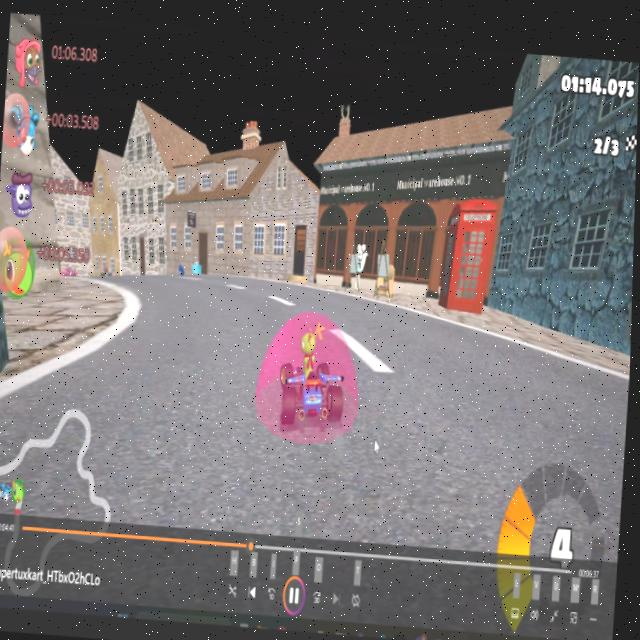bonus: (193, 258, 203, 272)
nitro: (176, 256, 188, 275)
track: (367, 338, 587, 451), (132, 269, 315, 331)
